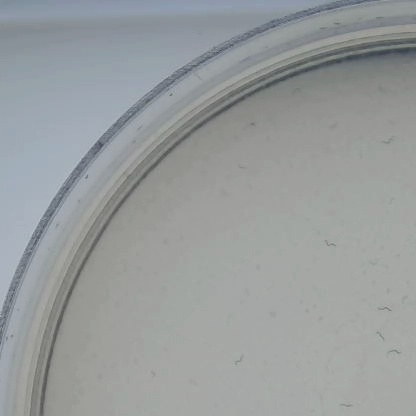worm: (216, 340, 247, 372), (219, 154, 248, 174), (358, 327, 394, 343), (320, 229, 341, 256), (375, 304, 405, 321), (381, 131, 406, 151), (332, 395, 360, 412), (383, 351, 409, 366), (141, 364, 161, 378)
